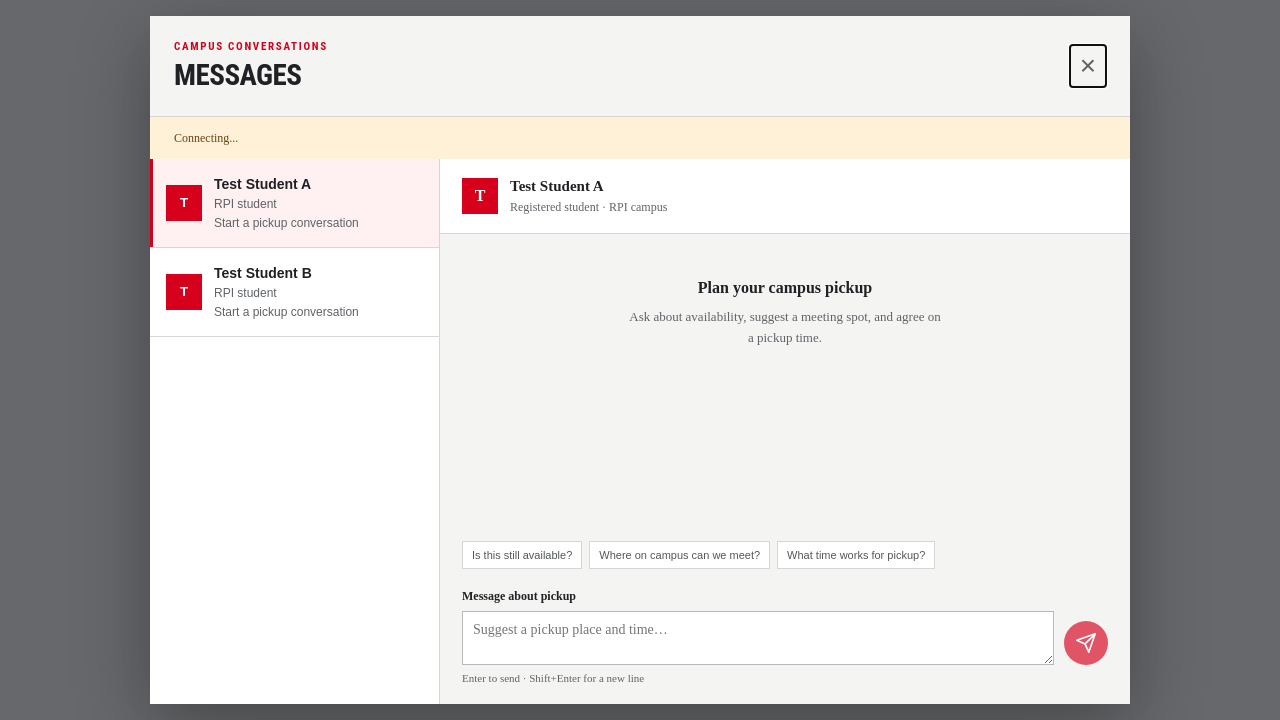
Test: preserves separate drafts per student and inserts suggestions
Expected: the text box labelled "Message about pickup" is shown, [462,611,1054,665]
Click the button "Is this still available?".
click(522, 555)  # box [462,541,582,569]
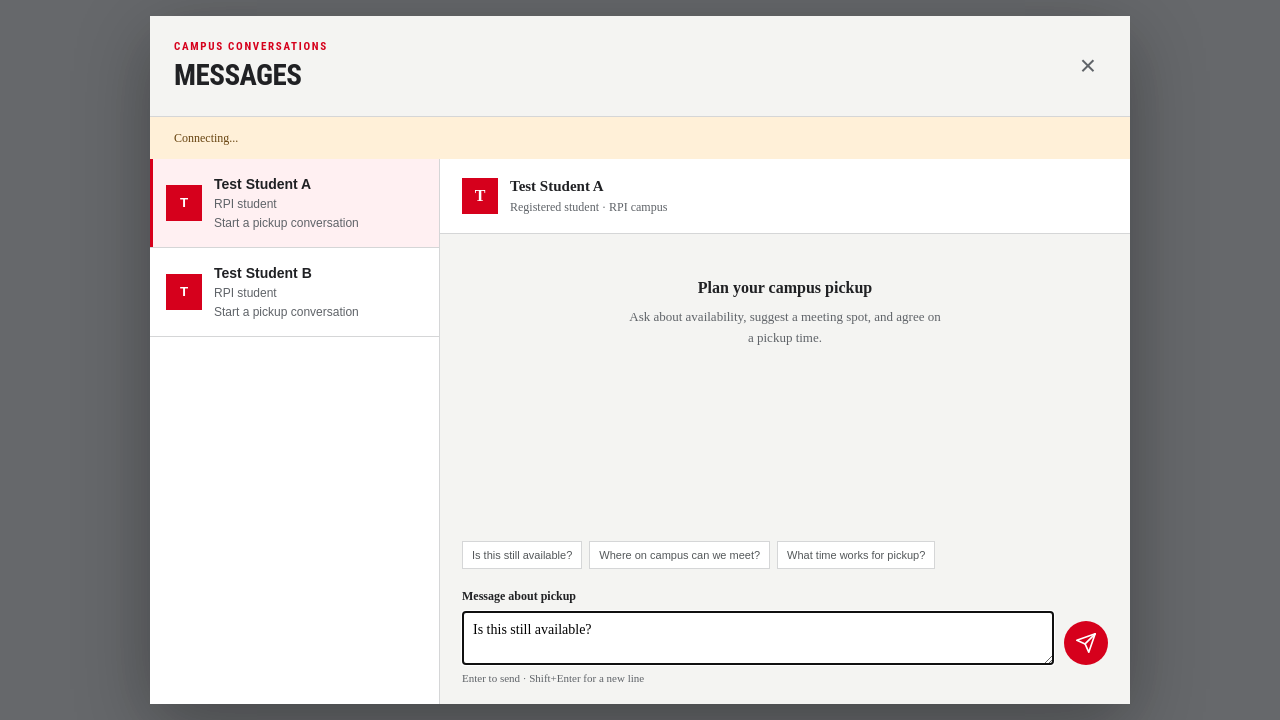
Expected: the text box holds "Is this still available?", [462,611,1054,665]
Click the button "T Test Student B RPI student Start a pickup conversation".
click(184, 292)  # box [150,248,439,337]
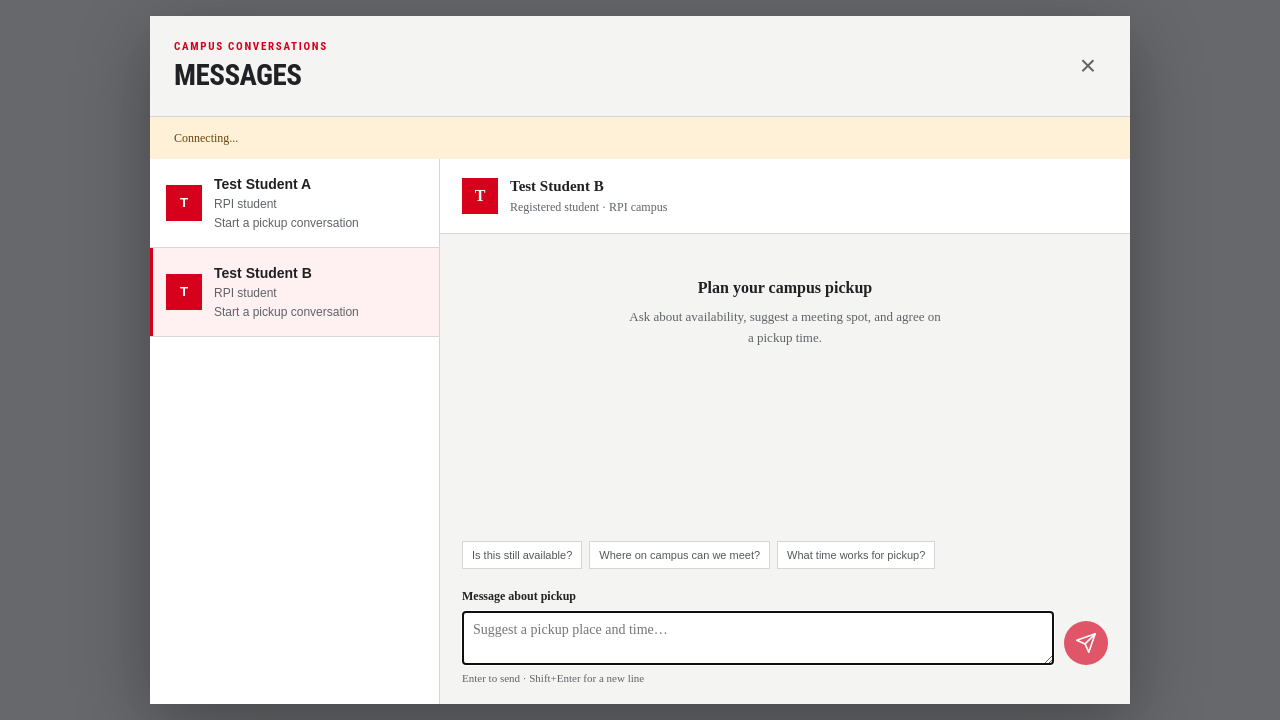
Expected: the text box is empty, [462,611,1054,665]
Click the button "T Test Student A RPI student Start a pickup conversation".
click(184, 203)  # box [150,159,439,248]
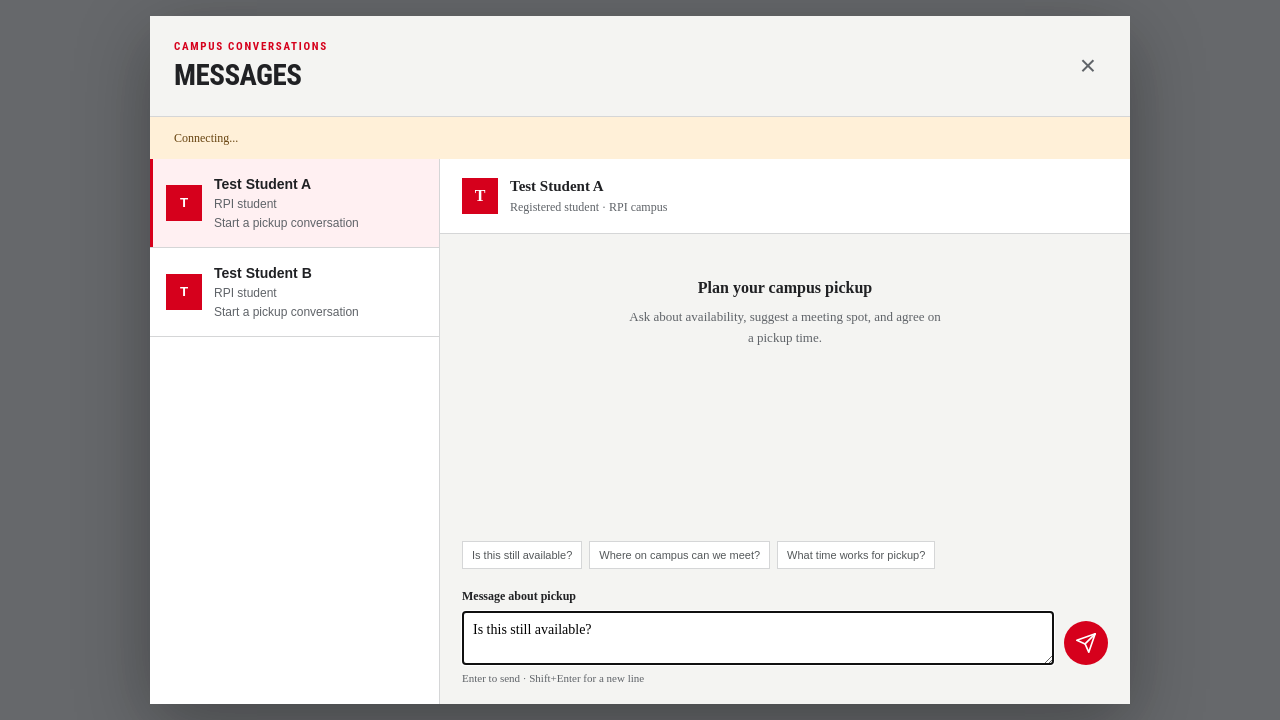
Expected: the text box holds "Is this still available?", [462,611,1054,665]
